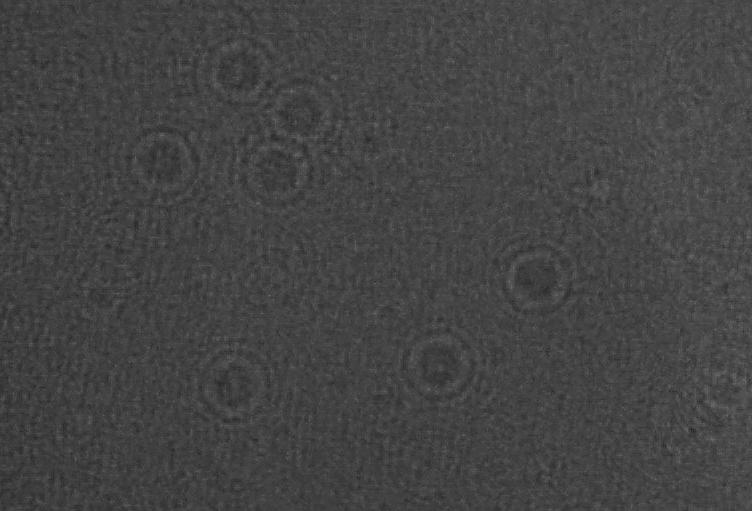bead: (109, 109, 208, 213), (182, 18, 286, 117), (472, 233, 583, 325), (226, 124, 321, 226), (182, 341, 283, 434), (386, 319, 487, 412), (257, 75, 357, 153)
